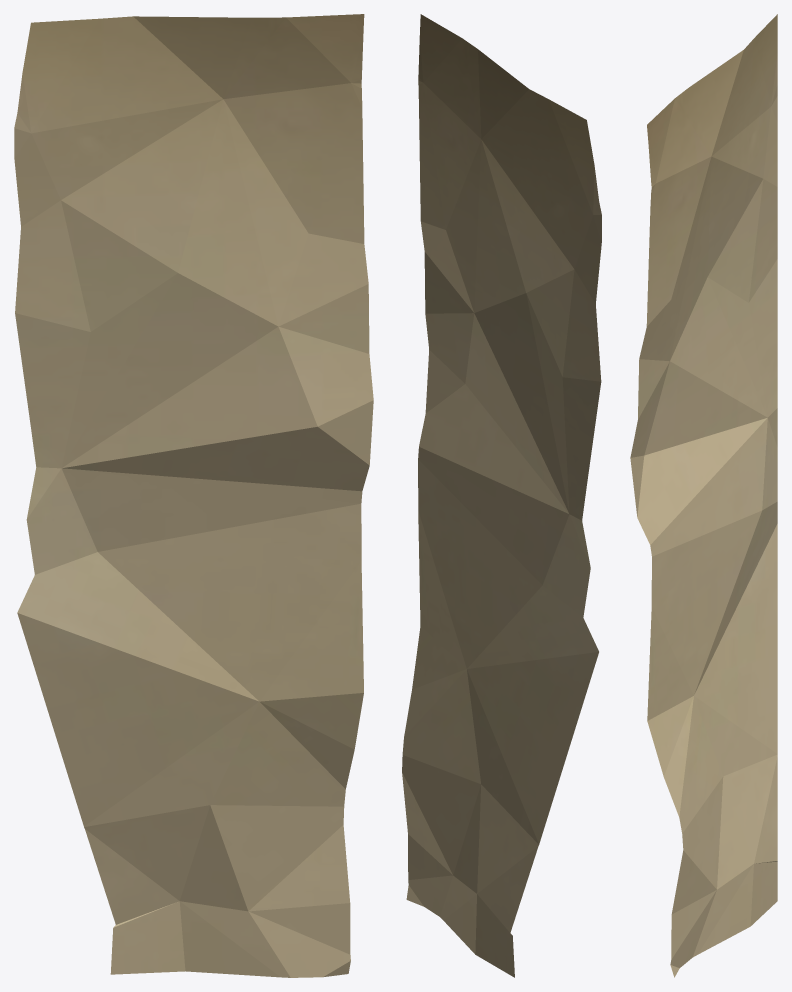
3 renders of one model, left to right at view 1: azimuth 30°, elevation 25°; view 2: azimuth 150°, elevation 25°; view 3: azimuth 270°, elevation 25°, orthographic. The views are drawn at different scales.
Bounding box in the file's own units: 0.2486 × 0.8374 × 0.131.
Materials: 1 (1 with a texture image).
